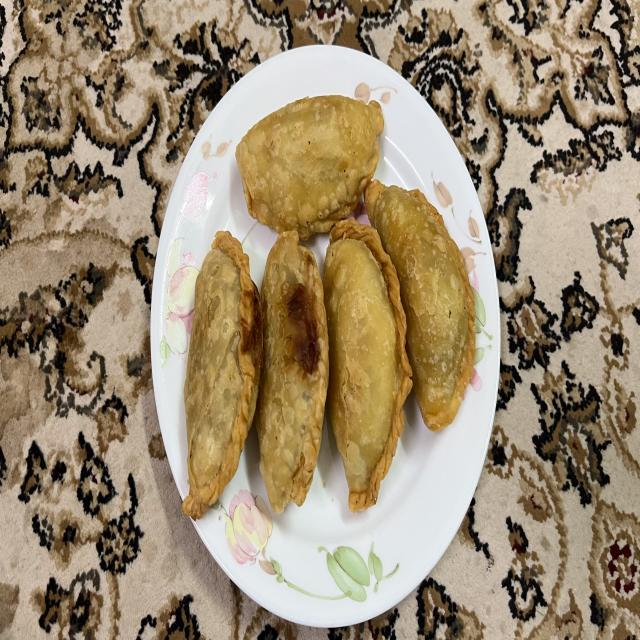karipap: (365, 180, 476, 431), (324, 220, 412, 513), (182, 231, 262, 520), (236, 96, 384, 240), (255, 231, 329, 513)
